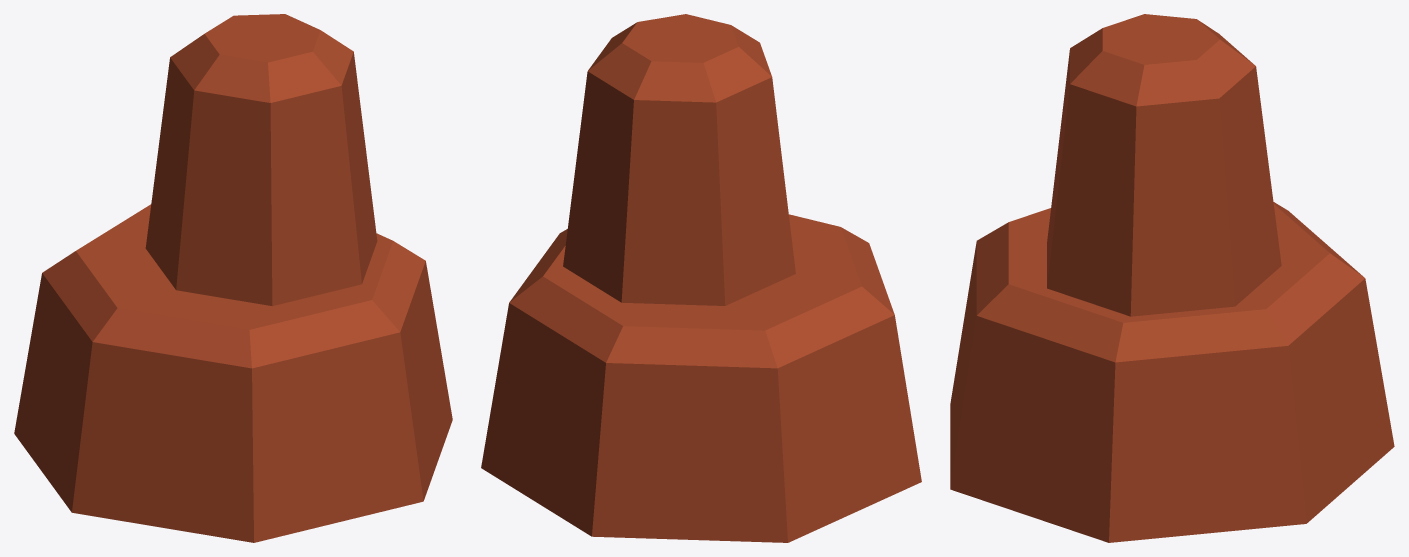
Rendered from DesertRockB.glb.
3 renders of one model, left to right at view 1: azimuth 30°, elevation 25°; view 2: azimuth 150°, elevation 25°; view 3: azimuth 270°, elevation 25°, orthographic. The views are drawn at different scales.
Parts seen in each view (by area): view 1: Cylinder; view 2: Cylinder; view 3: Cylinder.
Part boxes in pixels (x1,y1,x2,y2): Cylinder: (14,14,452,542); Cylinder: (481,14,921,542); Cylinder: (950,14,1394,542).
Size of the model in its own units: 3.69 by 3.75 by 3.6.
